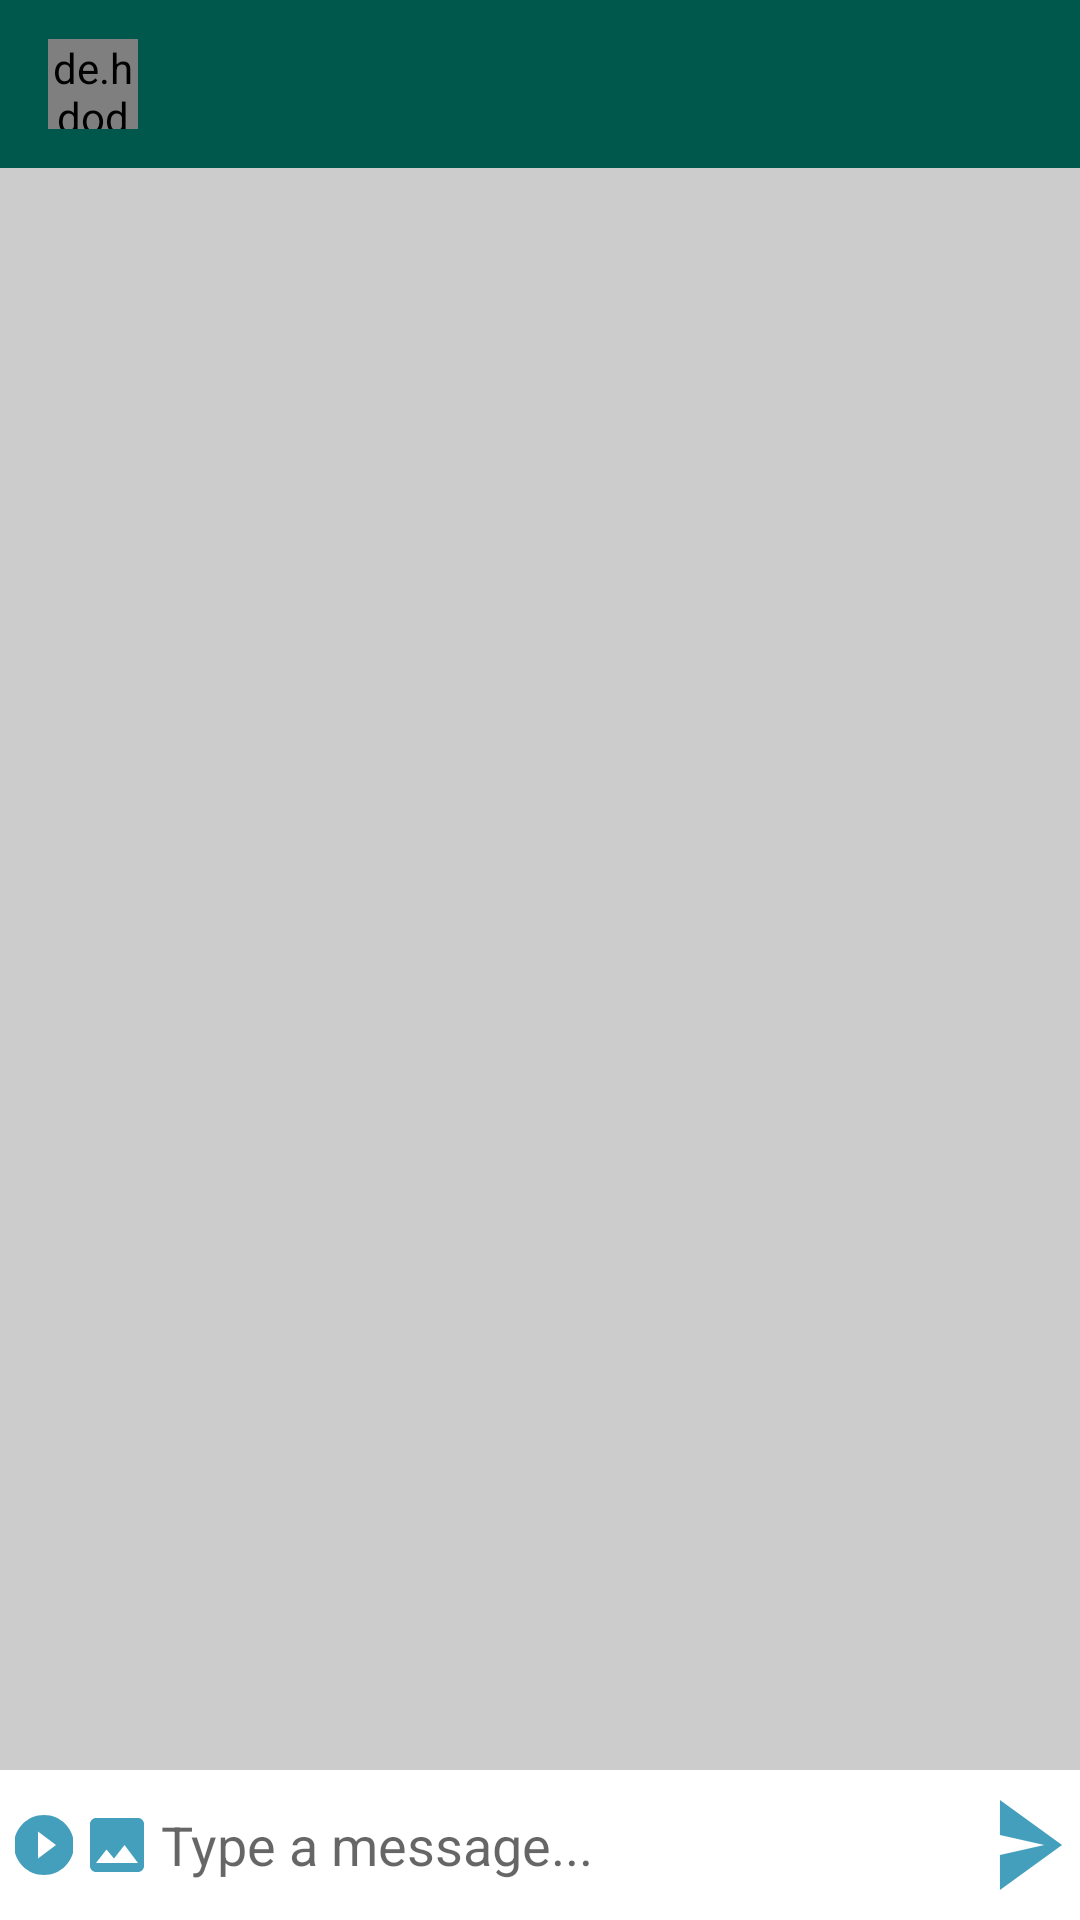

Screen size 1080px×1920px. Icon name, then its center in pixels as point (x, y):
video send: point (44, 1845)
